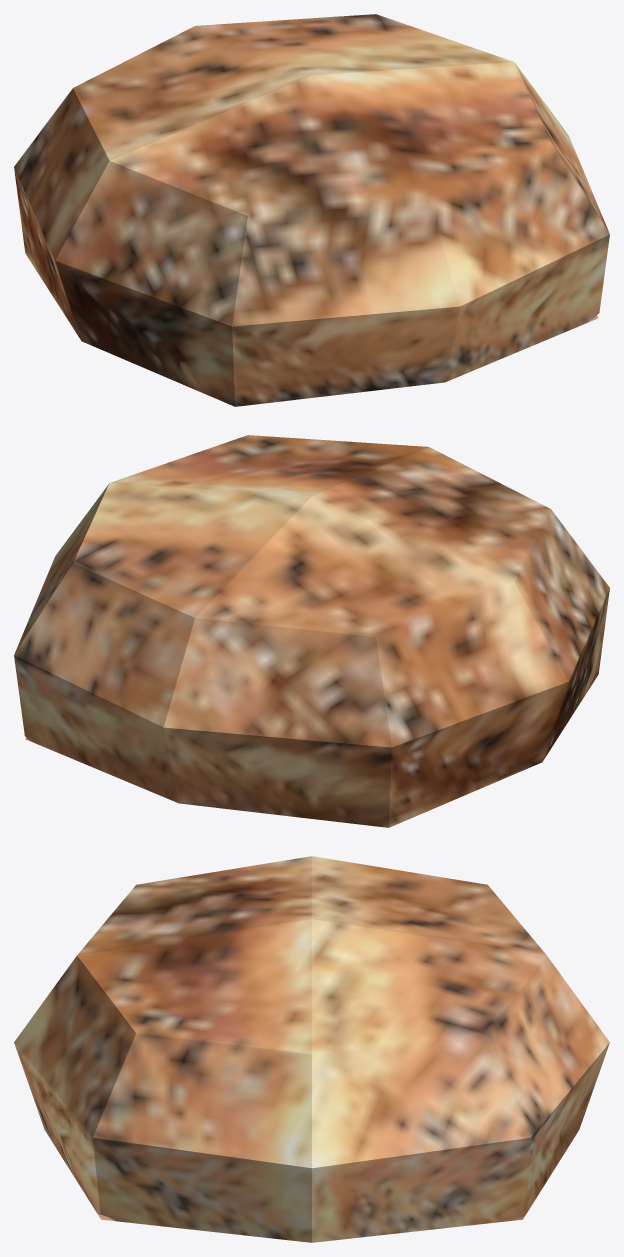
The model's file is Bread.fbx.
3 renders of one model, top to bottom at view 1: azimuth 30°, elevation 25°; view 2: azimuth 150°, elevation 25°; view 3: azimuth 270°, elevation 25°, orthographic.
Visible parts, largest first — view 1: Cube; view 2: Cube; view 3: Cube.
Boxes of the visible parts, bbox=[...] form: Cube: bbox=[14, 14, 609, 406]; Cube: bbox=[14, 435, 609, 827]; Cube: bbox=[14, 856, 609, 1242].
Bounding box in the file's own units: 179 × 70.15 × 179.
Materials: 1 (1 with a texture image).
